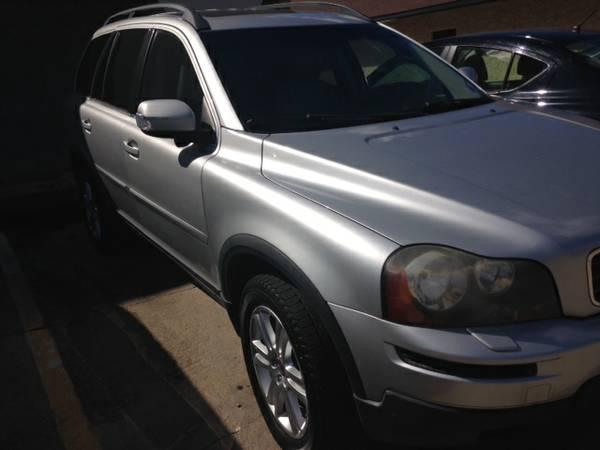volvo: (33, 2, 597, 450)
